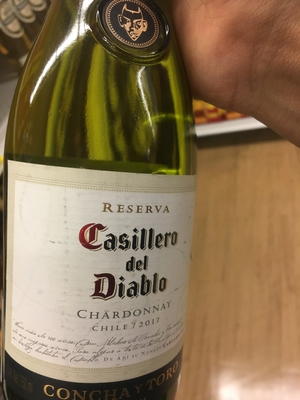casillero del diablo chardonnay: (1, 7, 201, 399)
